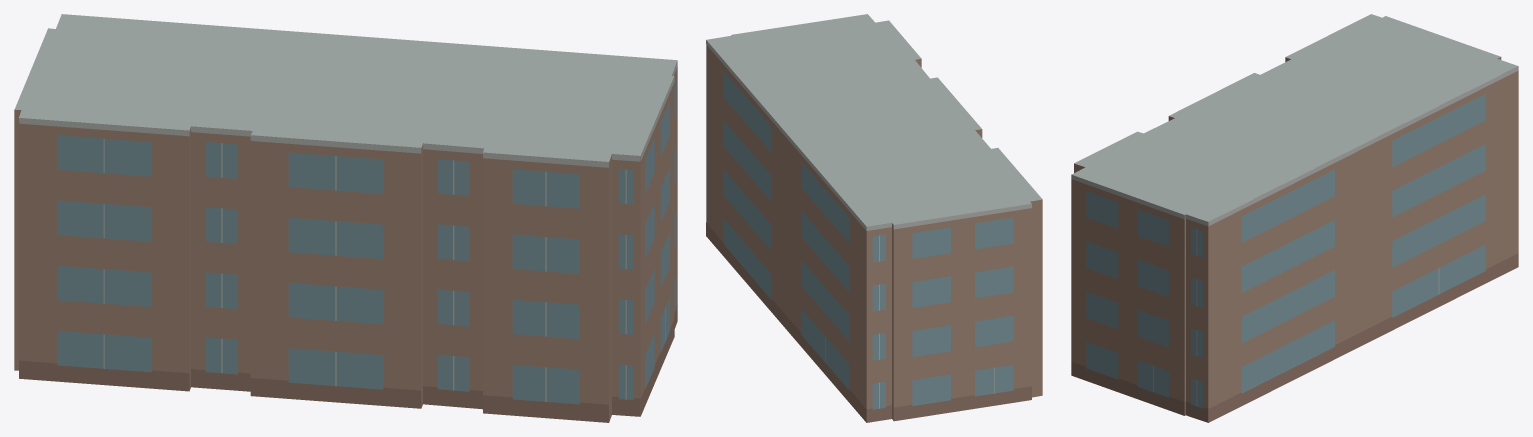
Rendered from survey-upis-33028642.glb.
3 renders of one model, left to right at view 1: azimuth 30°, elevation 25°; view 2: azimuth 150°, elevation 25°; view 3: azimuth 270°, elevation 25°, orthographic. The views are drawn at different scales.
Parts seen in each view (by area): view 1: survey-upis-33028642.tmp; view 2: survey-upis-33028642.tmp; view 3: survey-upis-33028642.tmp.
Boxes of the visible parts, x1,y1,x2,y2 form: survey-upis-33028642.tmp: (14, 14, 677, 422); survey-upis-33028642.tmp: (706, 14, 1042, 422); survey-upis-33028642.tmp: (1071, 14, 1518, 422).
Size of the model in its own units: 24.53 by 11.05 by 22.28.
